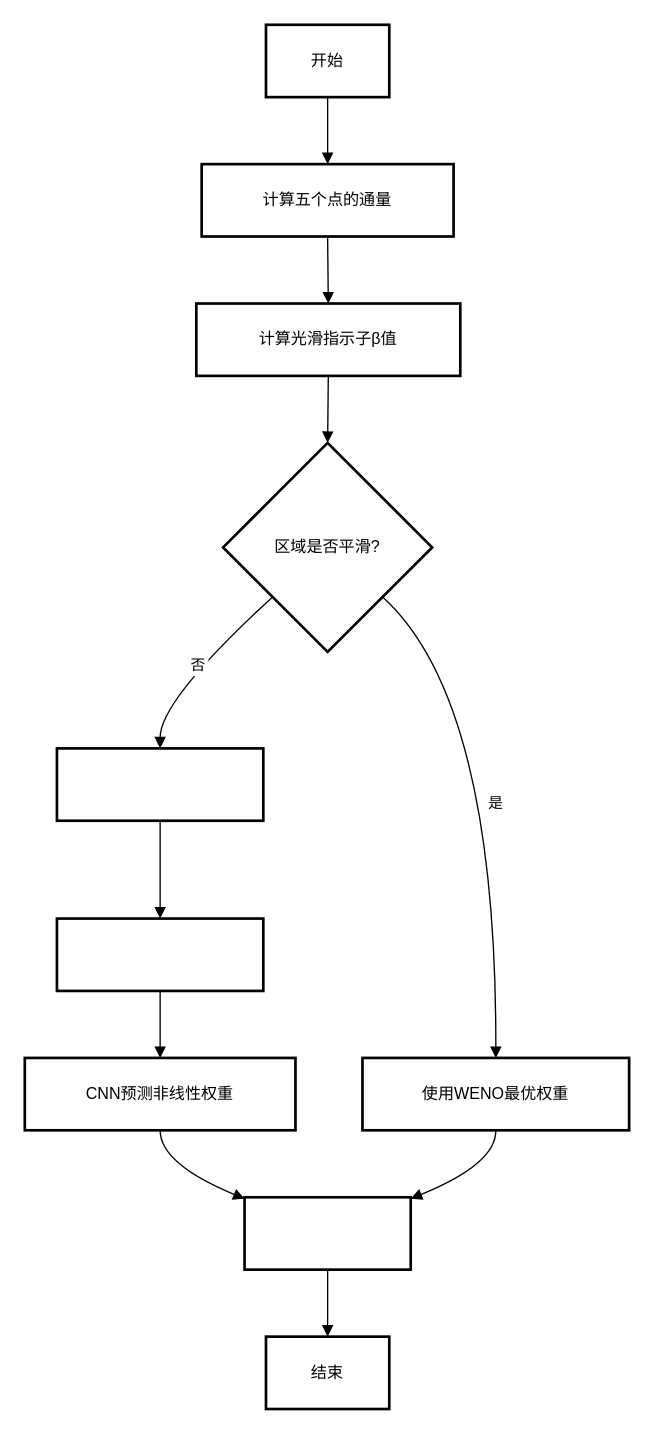
Image size: 653x1432. Some labels were removed from this diagram. Each missing label, with the box of its shape:
准备CNN输入: (55, 746, 264, 821)
输入CNN模型: (55, 917, 264, 992)
重构通量: (243, 1195, 411, 1270)
